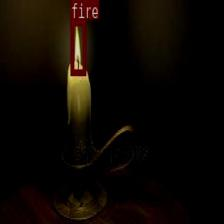fire: (70, 19, 85, 74)
